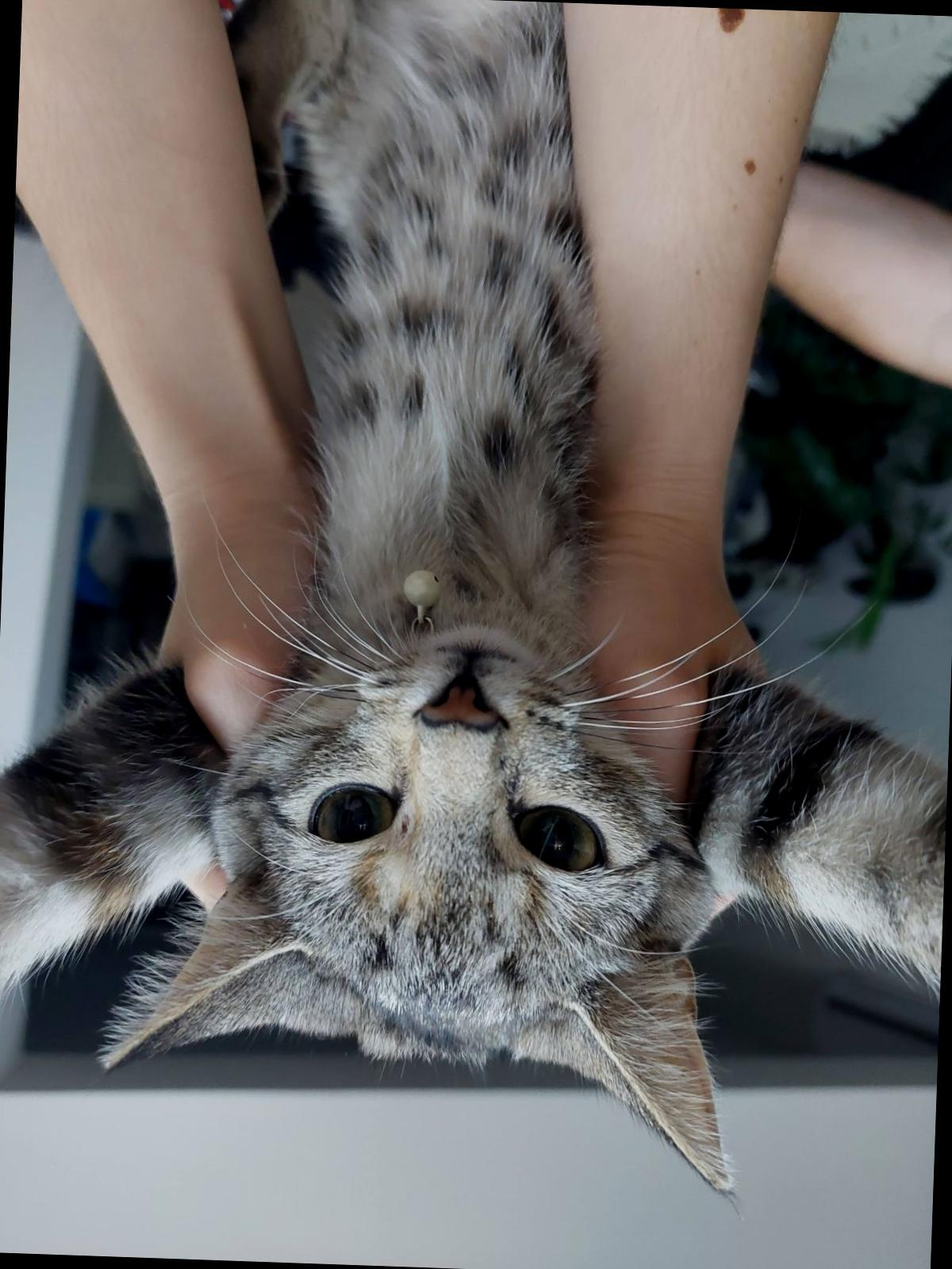macka: (0, 0, 952, 1213)
